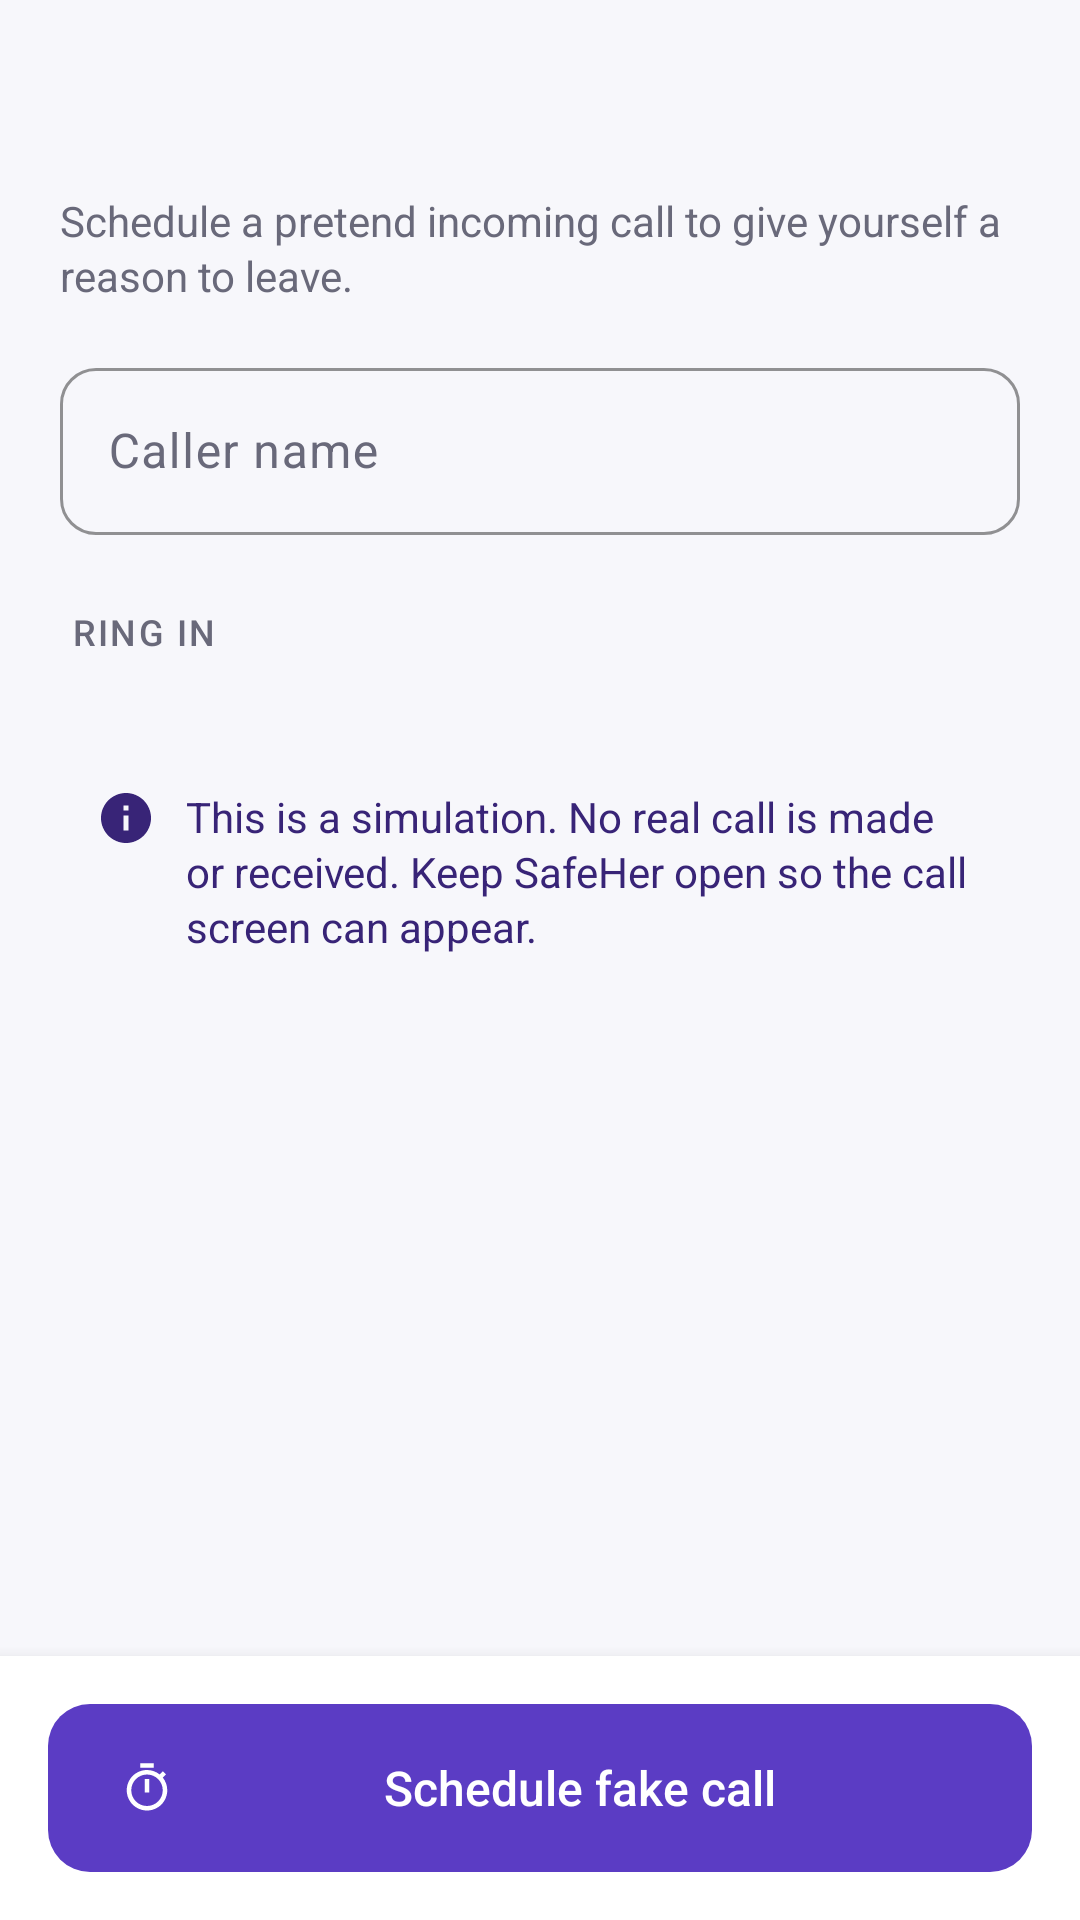

Locate icon controls on the screen. Image size 1080*1920, boxes as (x1, y1, x2, y2).
info: (101, 793, 151, 843)
